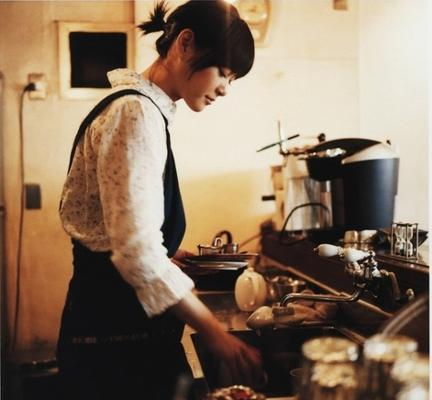person: (56, 1, 260, 400)
